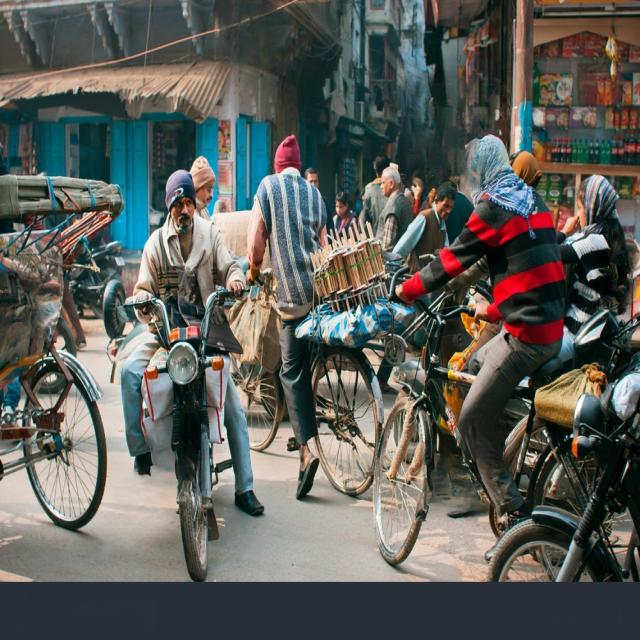bicycle: (374, 136, 595, 565), (230, 136, 414, 499)
motorcycle: (121, 170, 264, 581)
